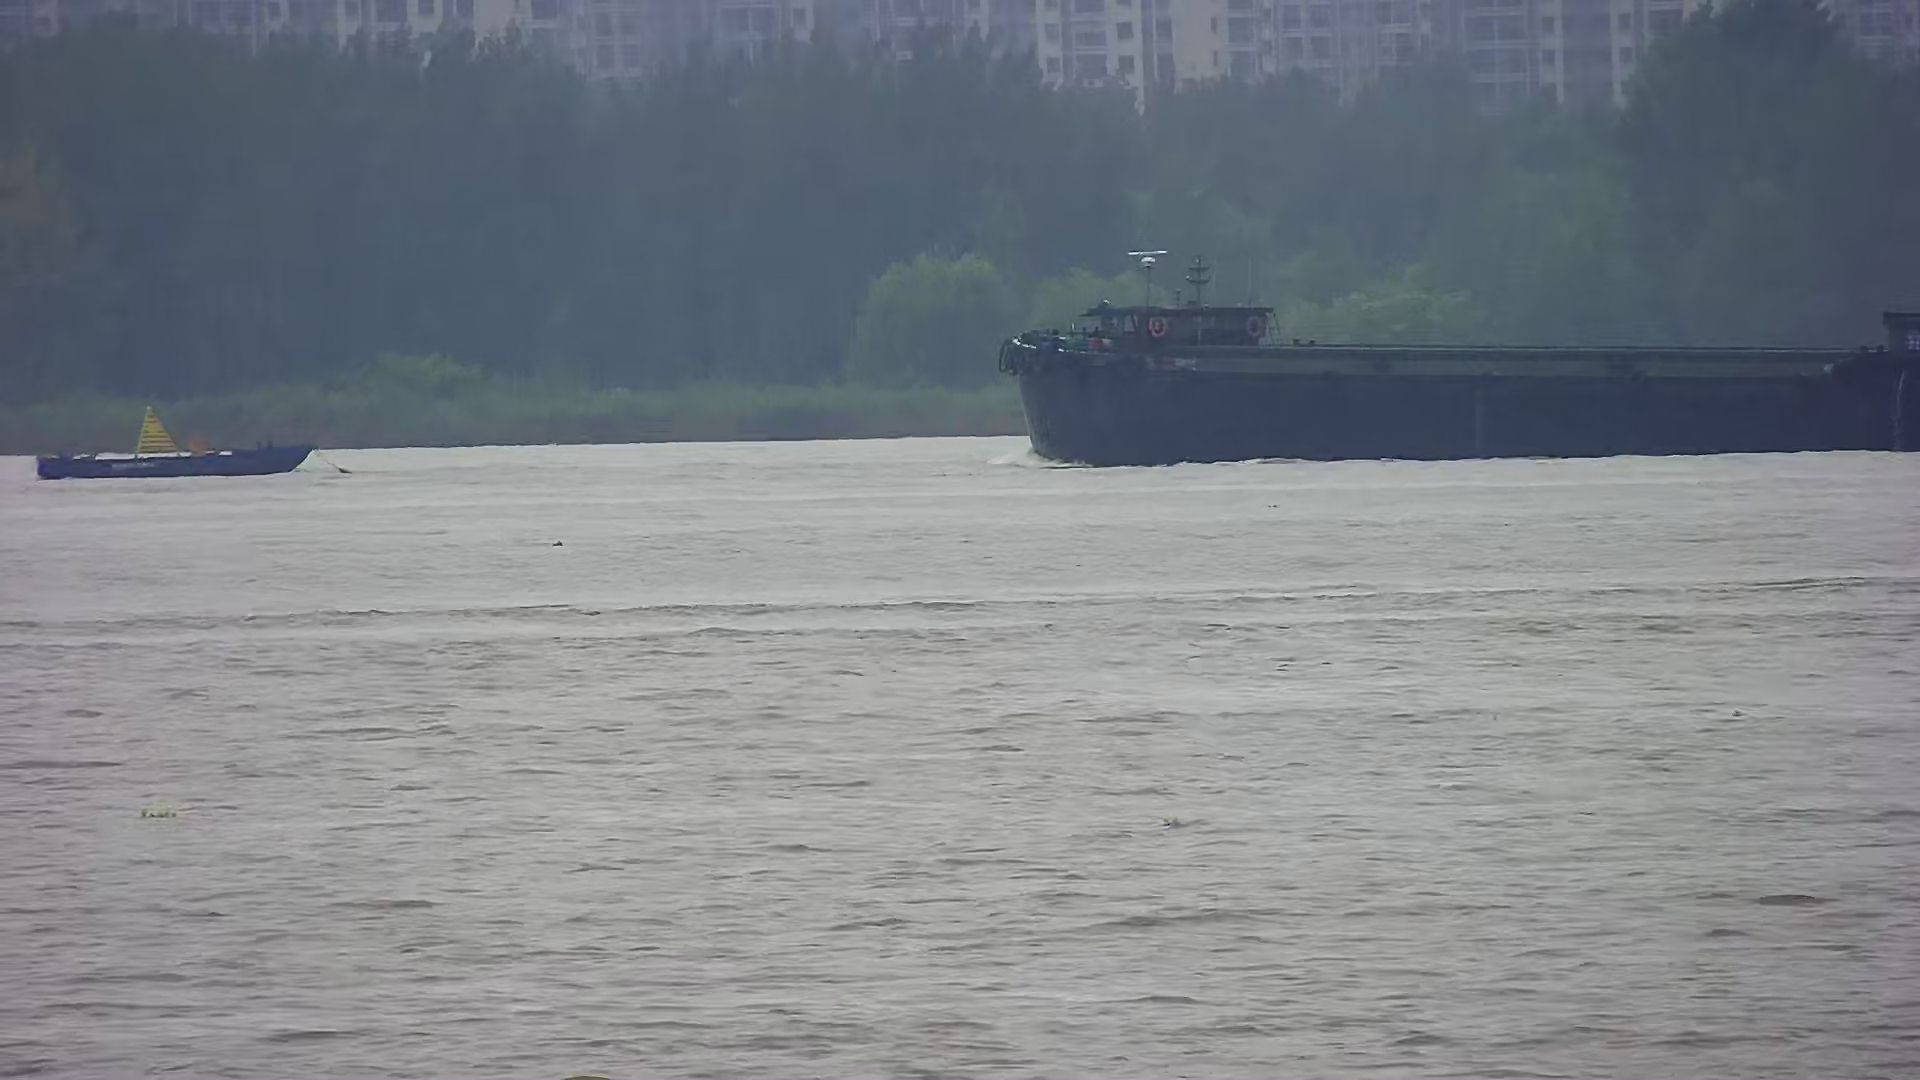boat: (33, 405, 314, 476)
ship: (992, 301, 1920, 465)
